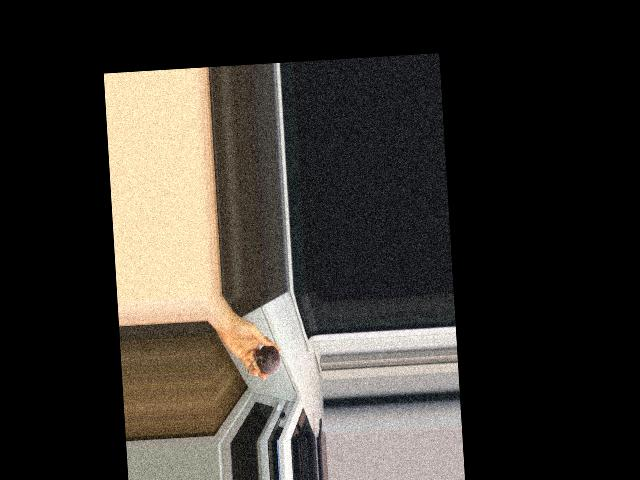beet: (244, 345, 281, 379)
